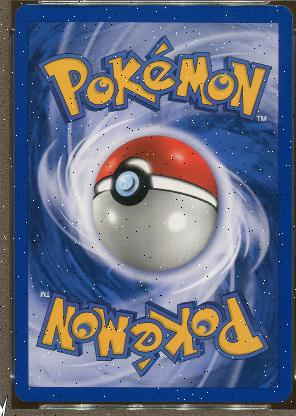Card: (12, 3, 292, 407)
